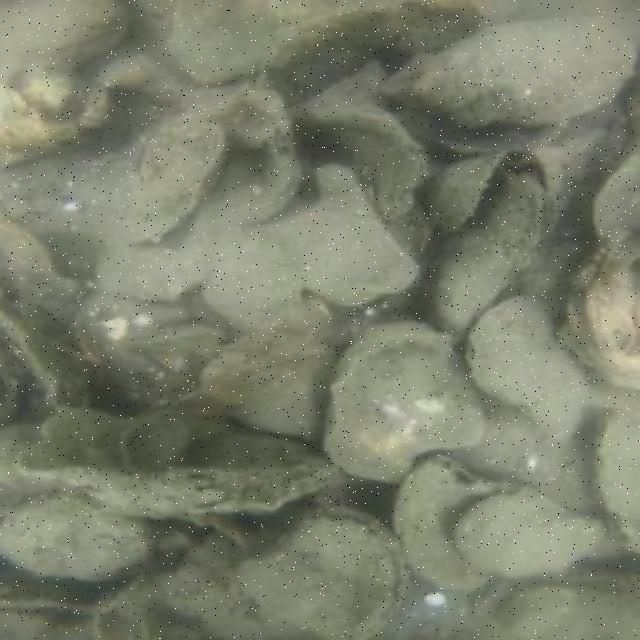Oyster-Closed: (380, 13, 638, 131), (321, 323, 489, 489), (427, 147, 561, 348), (52, 120, 228, 243), (463, 291, 588, 448), (241, 513, 393, 637), (201, 330, 342, 440), (454, 485, 611, 580), (398, 456, 503, 586), (1, 493, 154, 581), (0, 0, 135, 88), (479, 573, 640, 640), (570, 234, 640, 385), (169, 0, 279, 84), (595, 410, 640, 548), (594, 152, 640, 241)
